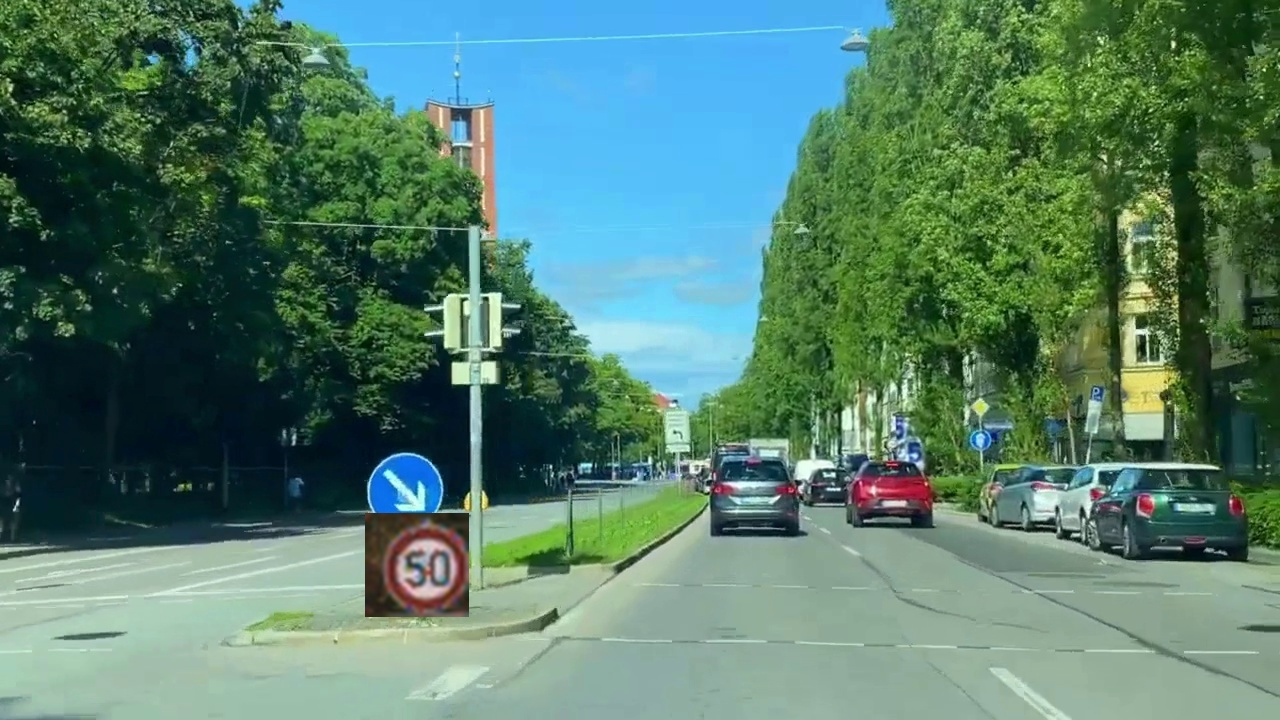Speed 50: (365, 513, 469, 617)
